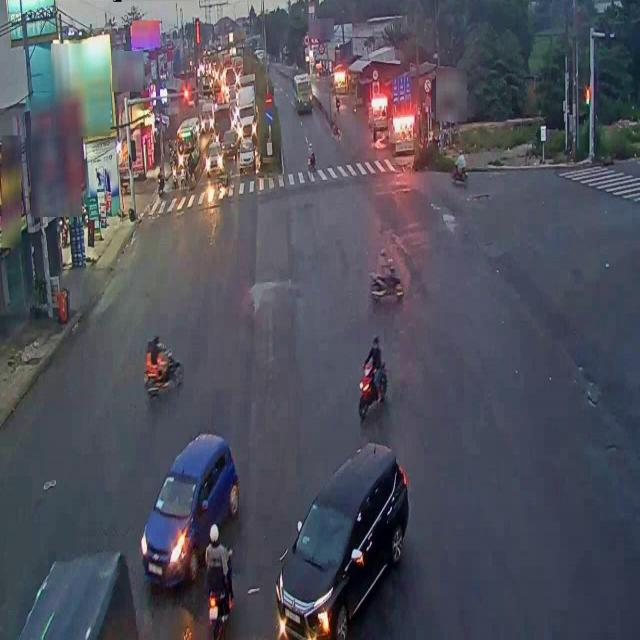car: (288, 430, 428, 639), (146, 436, 238, 586)
motorcycle: (204, 523, 238, 640), (357, 334, 389, 422), (142, 335, 182, 398), (369, 243, 403, 306)
